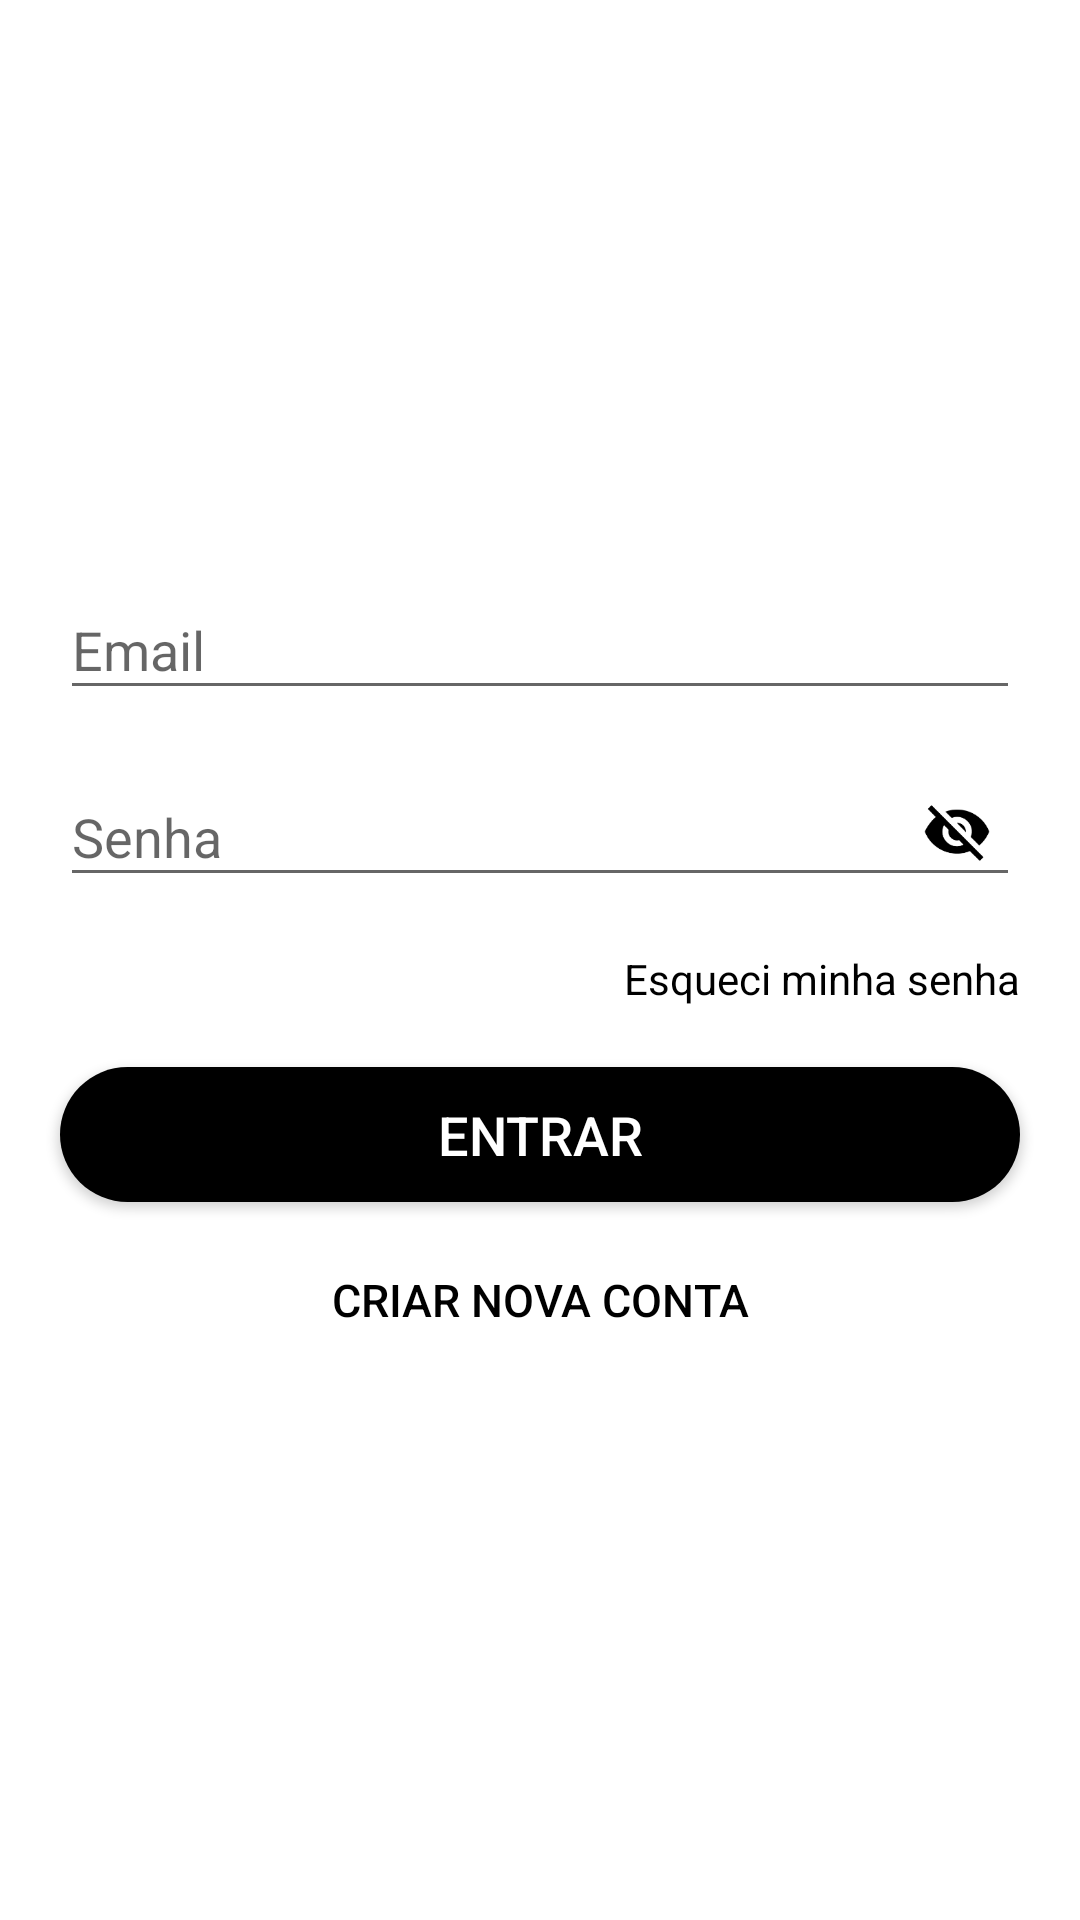

Screen size 1080x1920. Icon name, then its box in pixels as (x1, y1, x2, y2):
visibility off: (924, 805, 990, 861)
